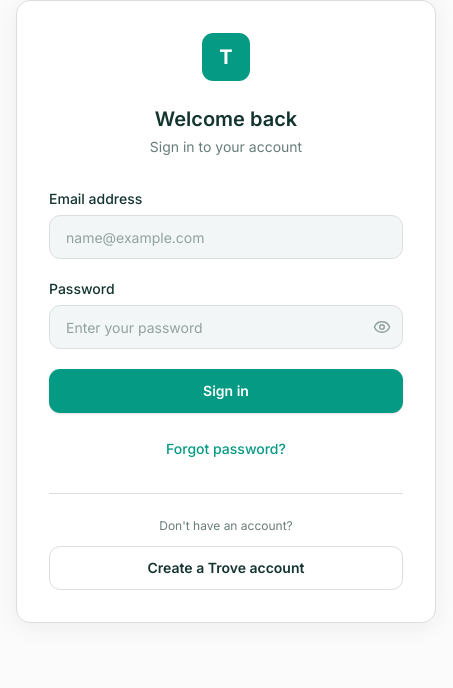
Test: LoginForm › shows validation errors for empty fields
Click the button "Sign in": (226,391) [49,369,403,413]
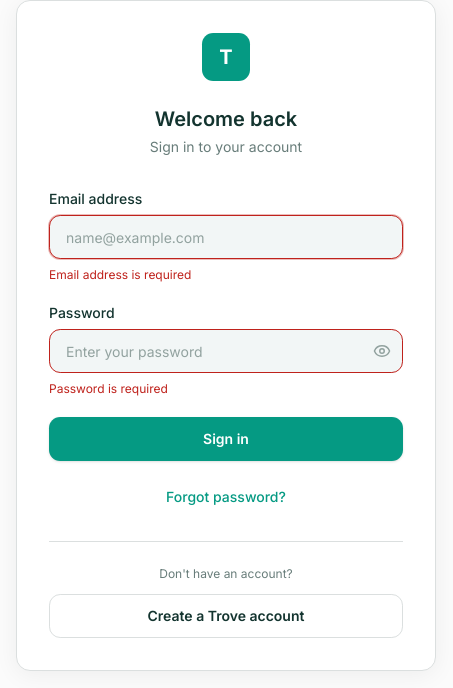
Now the text "Email address is required" is shown, box [49,267,191,282]
Now the text "Password is required" is shown, box [49,381,168,396]
